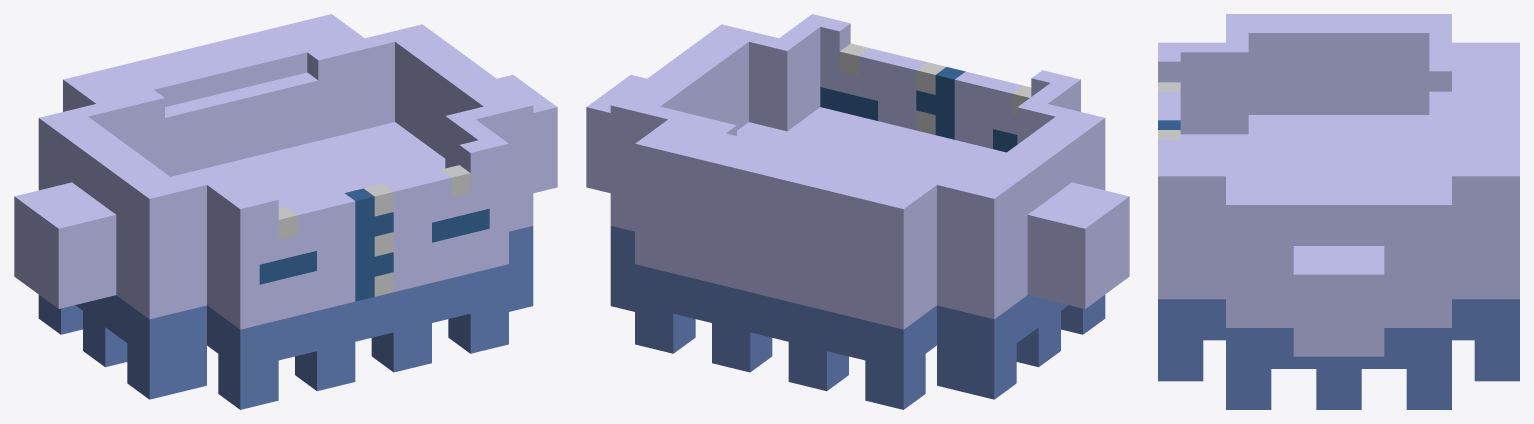
Rendered from marc.vox-1.fbx.
3 views of the same model, side by side, from view 1: azimuth 30°, elevation 25°; view 2: azimuth 150°, elevation 25°; view 3: azimuth 270°, elevation 25° (orthographic). The views are drawn at different scales.
Visible parts, largest first — view 1: marc.vox-1; view 2: marc.vox-1; view 3: marc.vox-1.
Boxes of the visible parts, <box> form: marc.vox-1: <box>14,14,557,409</box>; marc.vox-1: <box>586,14,1129,409</box>; marc.vox-1: <box>1158,14,1519,409</box>.
Bounding box in the file's own units: 2.6 × 1 × 1.6.
Materials: 1 (1 with a texture image).
